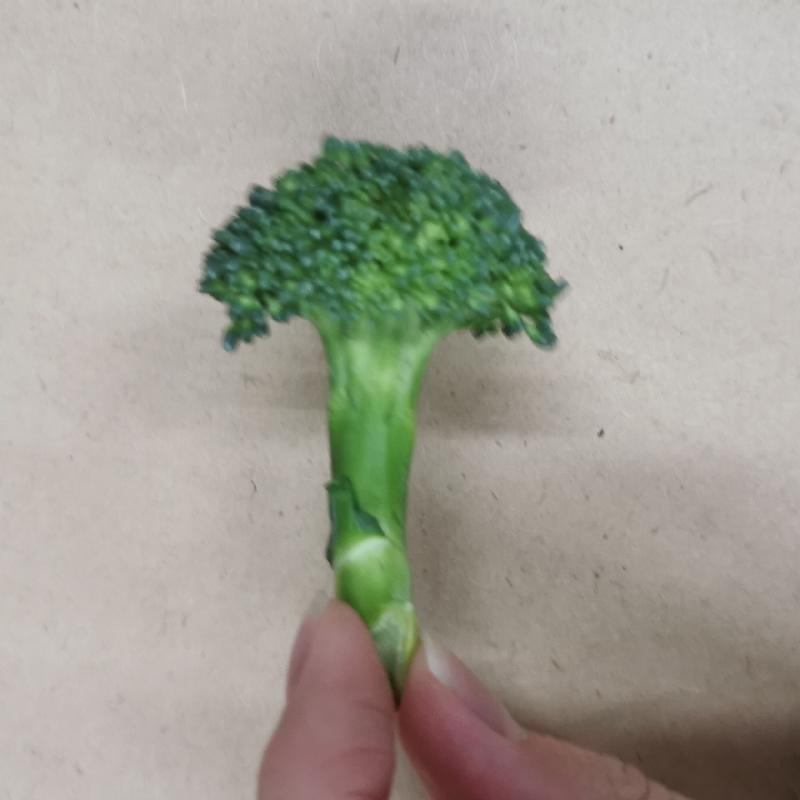broccoli: (191, 130, 568, 688)
